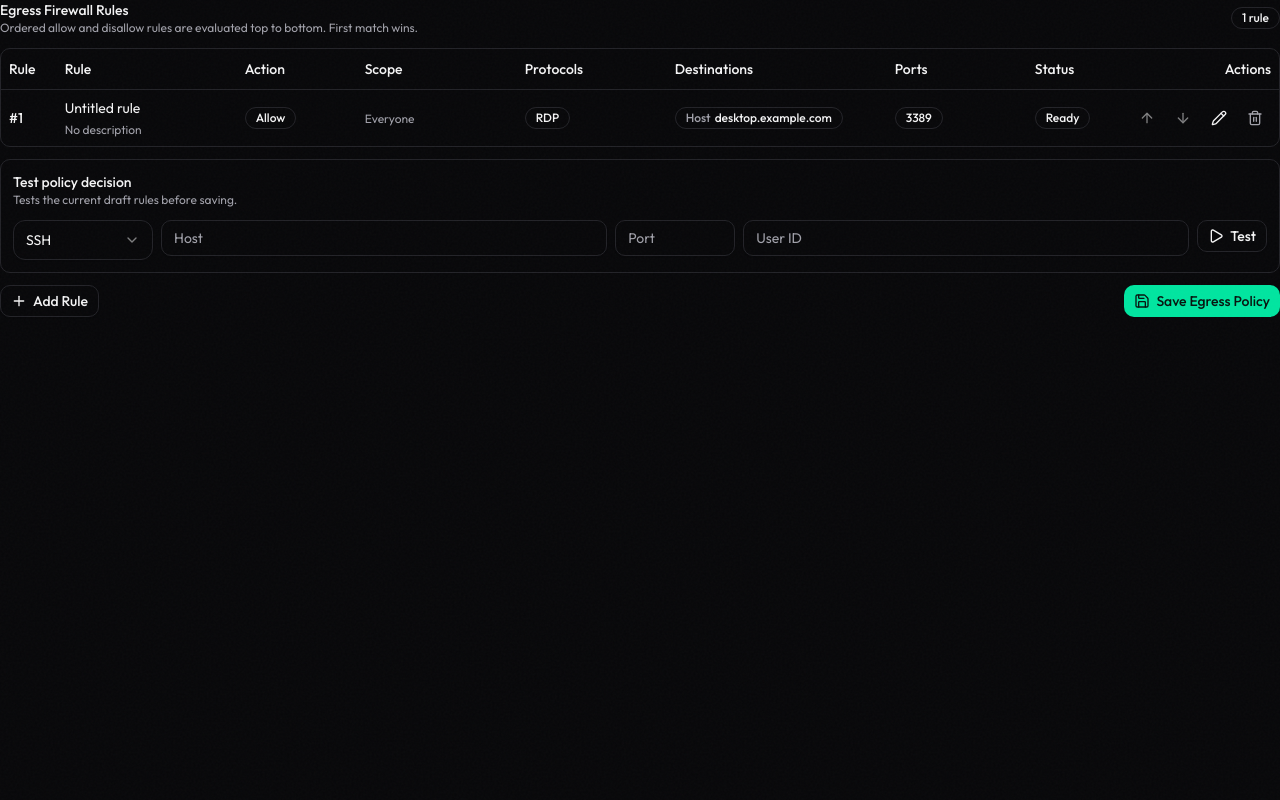
Test: GatewayEgressPolicyEditor › opens the rule editor in a popup from the datatable
Expected: the dialog "edit egress rule 1" is not shown
Click the button named "edit rule 1" at (1219, 118), box [1203,102,1235,134]
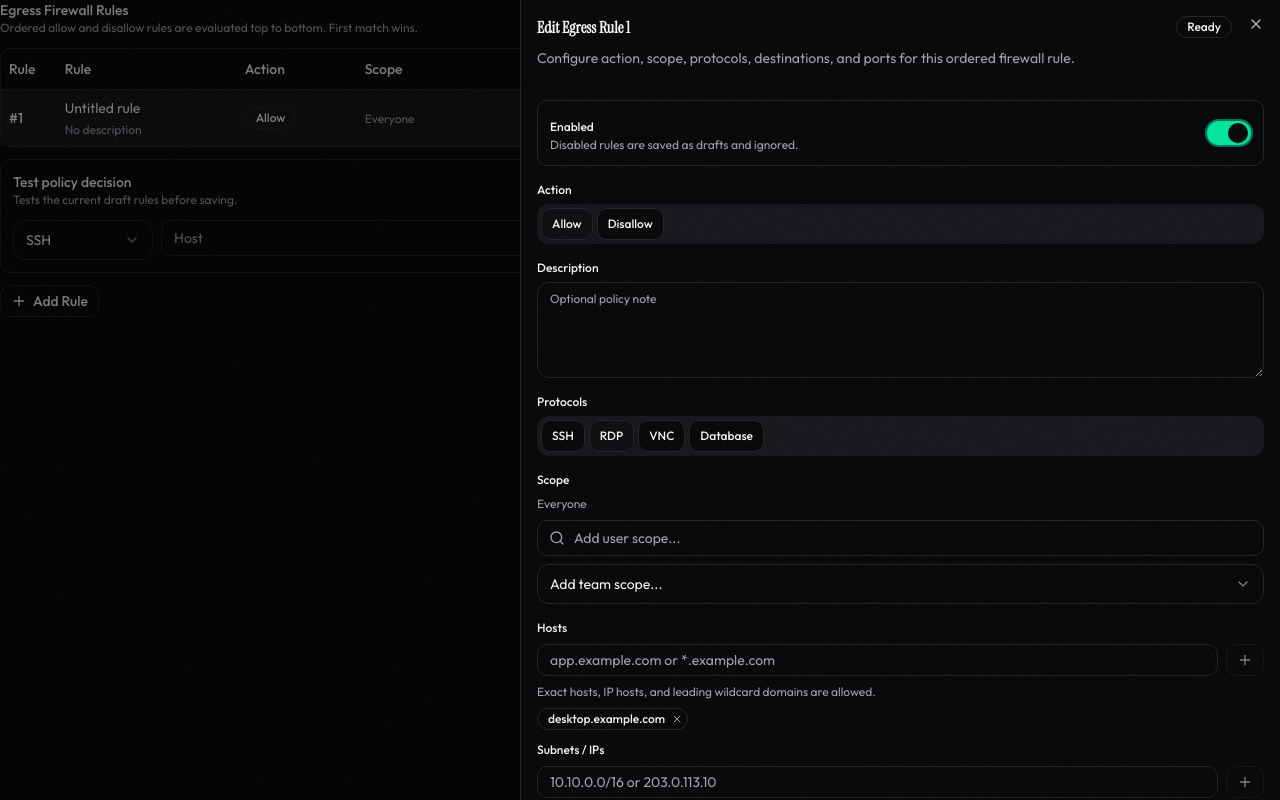
Expected: the dialog "Edit Egress Rule 1" is shown, [520,0,1279,799]
Expected: the field named "Host or Pattern for Rule 1" is shown, [537,644,1218,676]
